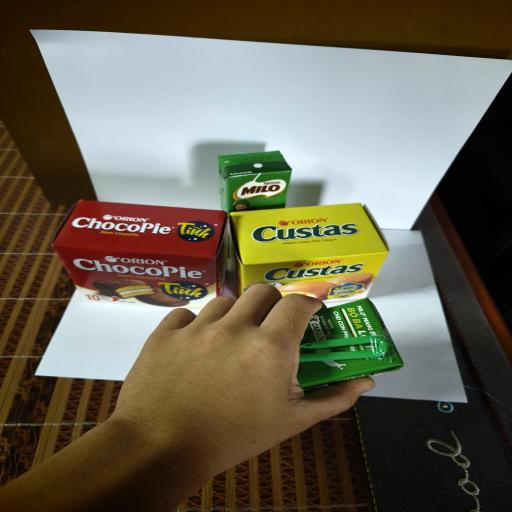chocopie: (51, 200, 229, 310)
custas: (229, 202, 389, 306)
milo: (298, 298, 404, 390), (218, 151, 292, 214)
